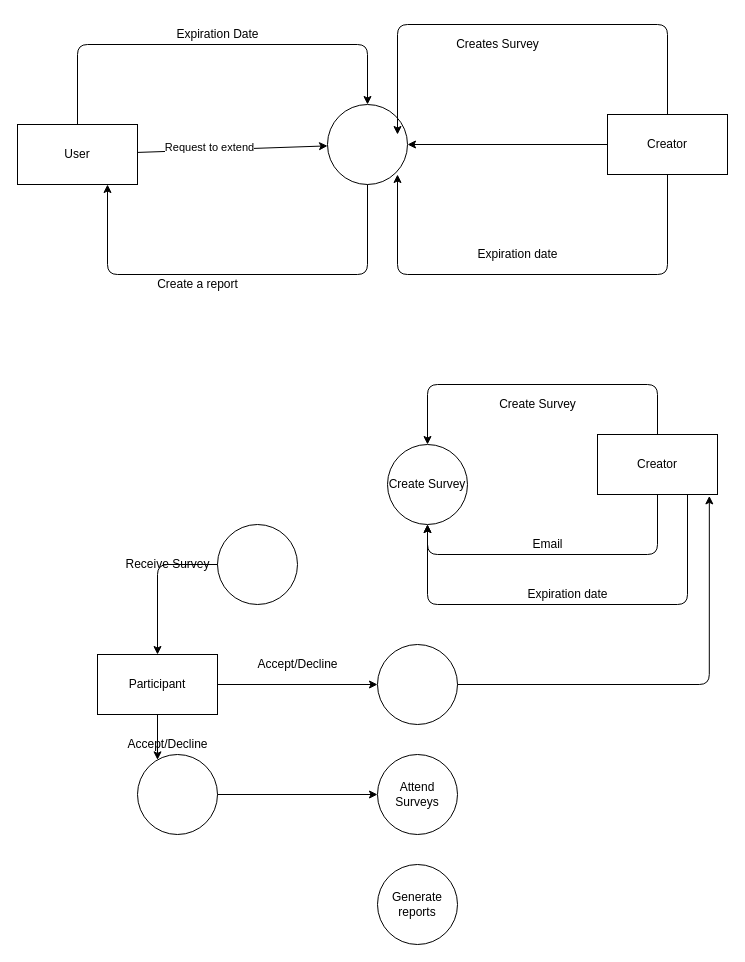
The diagram is 745 pixels wide and 962 high, and some of its shapes have lost their labels. Here are the shapes that lost their labels. From the top down, the centre of each, then its label:
At [367,144]: "Survey Porta;".
At [257,564]: "Send Survey".
At [417,684]: "Request and Extend".
